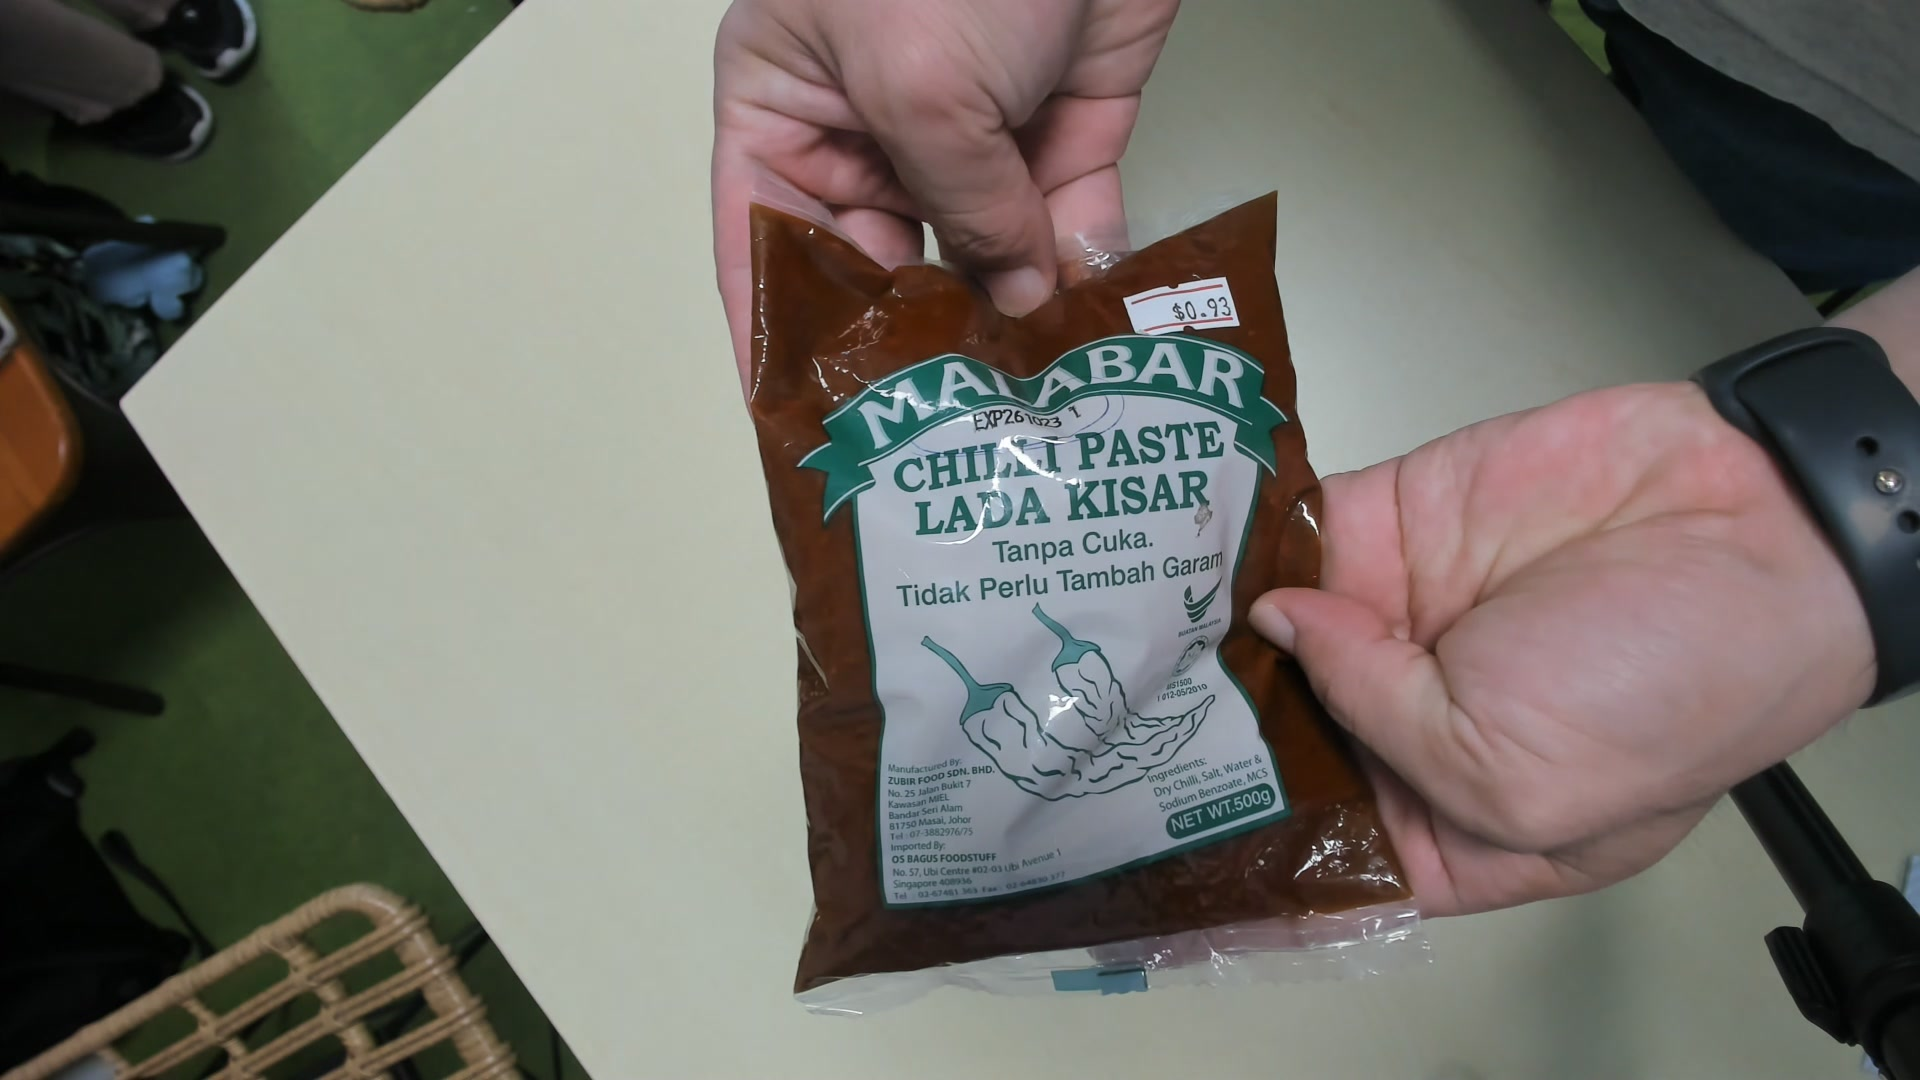OtherSauceDressingSoupbasePaste_500-599g_Halal_NonHealthy: (752, 178, 1422, 1000)
